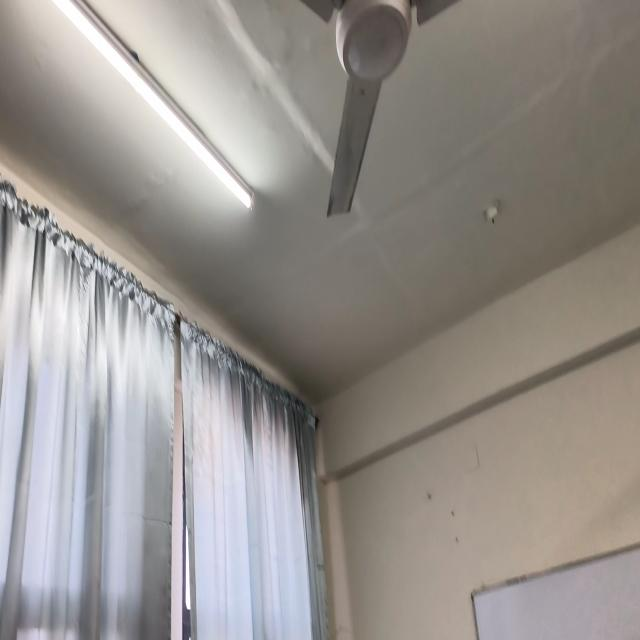Monitor: (52, 0, 253, 209)
